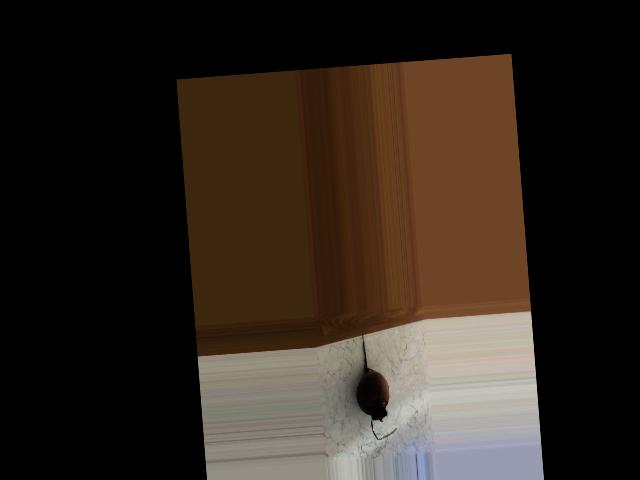beet: (351, 330, 397, 440)
